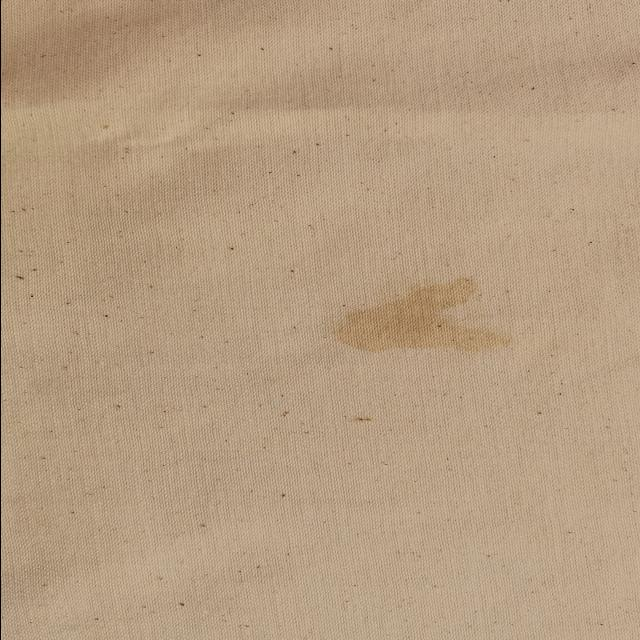taaaches: (311, 275, 524, 364)
